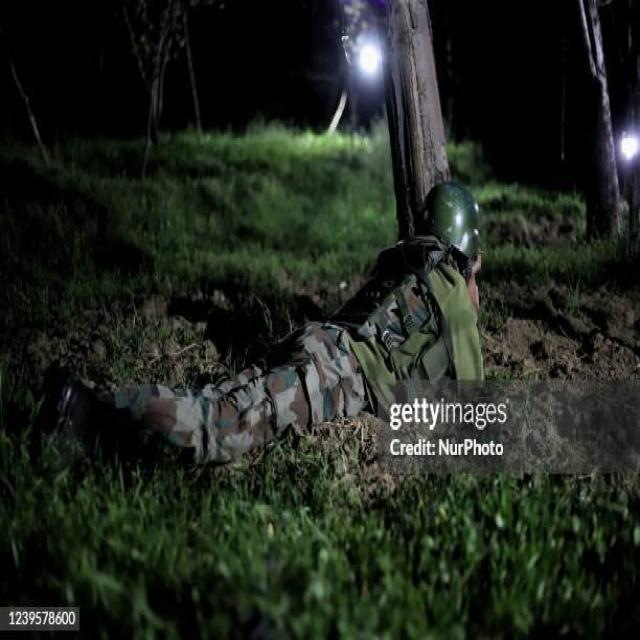Forest: (2, 0, 640, 640)
Militant: (301, 121, 507, 537)
